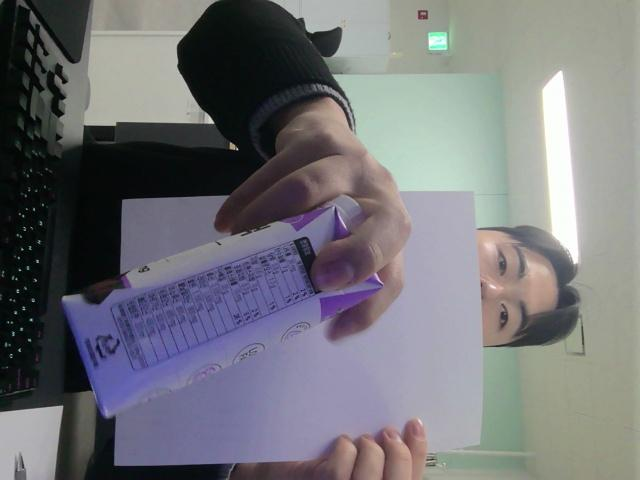milk: (64, 198, 381, 415)
